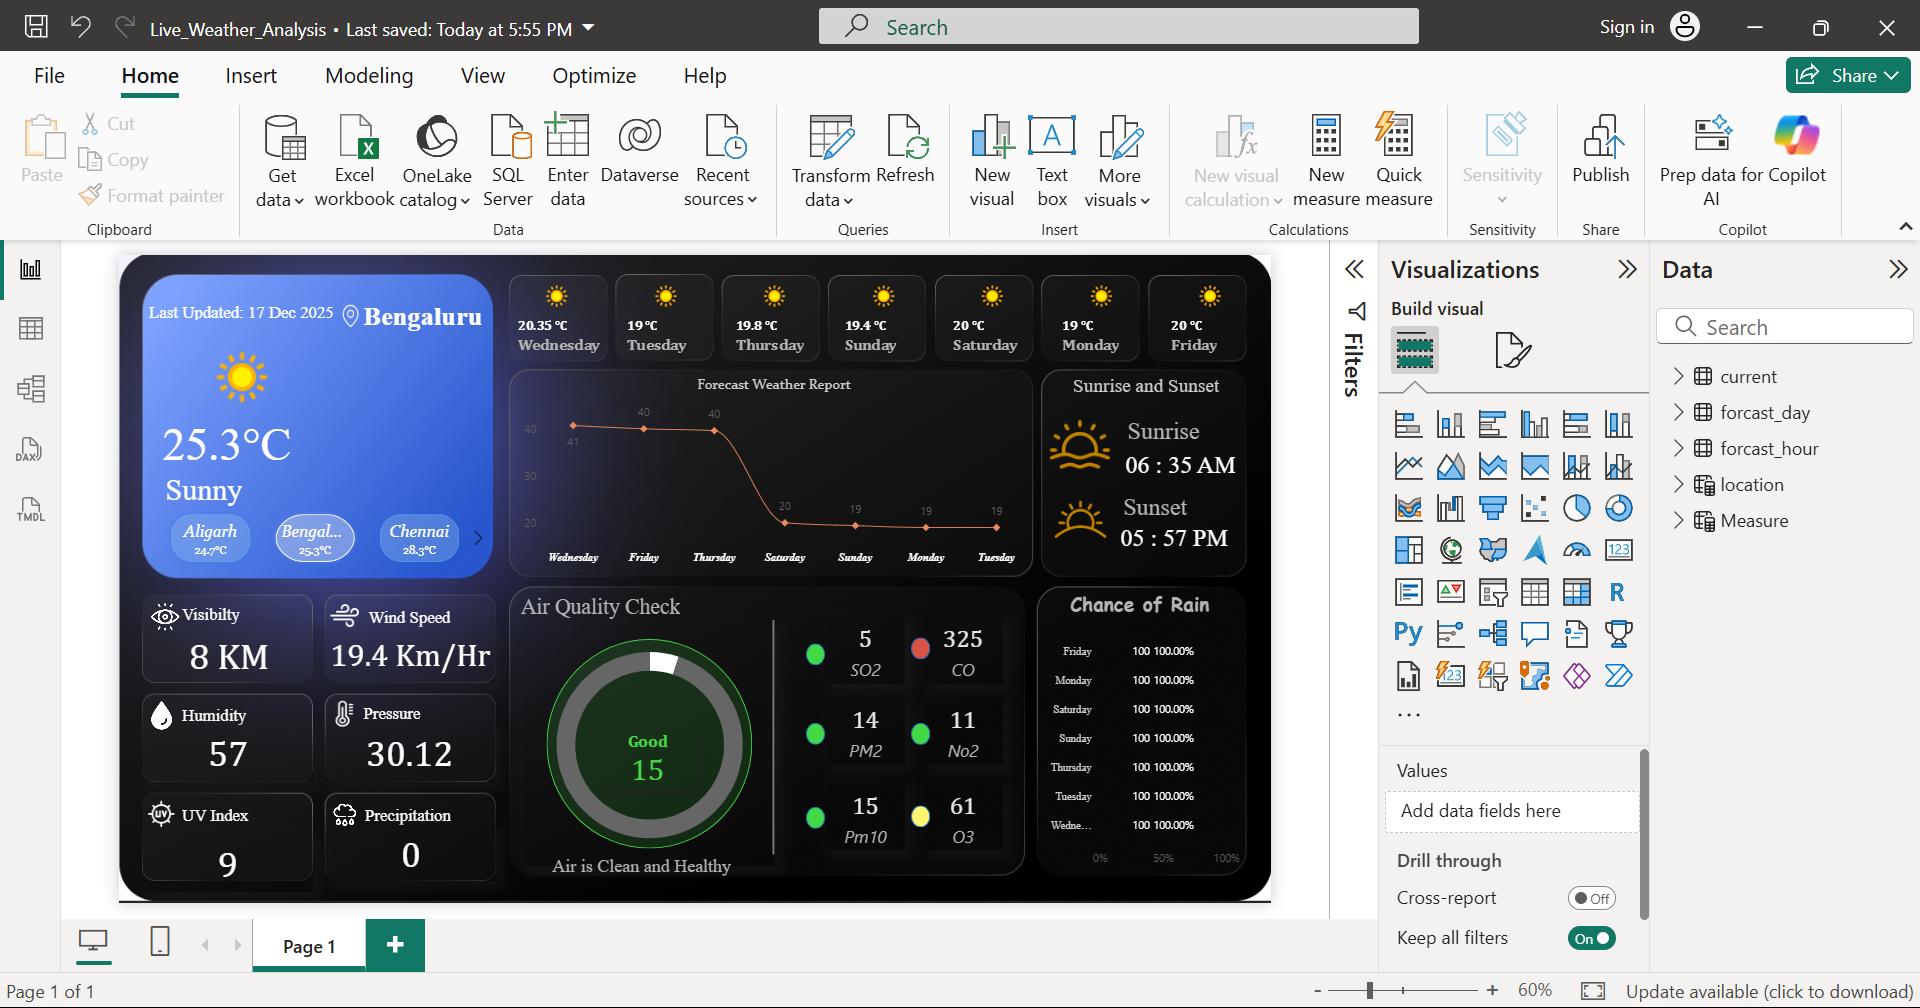

This screenshot's page, from the dashboard's own definition file:
{"tool":"powerbi","page":{"name":"Page 1","canvas":[1280,720],"ordinal":0},"visuals":[{"type":"shape","box":[475.7,427.1,228.6,232.9],"z":0},{"type":"advancedSlicerVisual","fields":{"Values":["location.location.name"]},"box":[21.7,271.7,393.3,85],"z":1000},{"type":"shape","box":[48.6,172.9,255.7,74.3],"z":2000},{"type":"shape","box":[51.4,241.4,178.6,37.1],"z":3000},{"type":"shape","box":[26.7,48.7,218.7,28.7],"z":4000},{"type":"shape","box":[258.8,40,158.8,56.2],"z":5000},{"type":"image","box":[241.2,50,31.2,35],"z":6000},{"type":"cardVisual","fields":{"Data":["Min(current.current.condition.icon)"]},"box":[26.4,67.9,177.9,127.1],"z":7000},{"type":"shape","box":[70,380.6,145,40.6],"z":8000},{"type":"image","box":[228.3,377.5,44.2,44.2],"z":9000},{"type":"shape","box":[272.5,380.8,145,40.8],"z":10000},{"type":"shape","box":[70,490,145,43.1],"z":11000},{"type":"shape","box":[70,601.4,145,40.7],"z":12000},{"type":"shape","box":[271.9,490,145,38.8],"z":13000},{"type":"shape","box":[272.9,601.4,145,40.7],"z":14000},{"type":"image","box":[30.6,381.2,42.5,40],"z":15000},{"type":"image","box":[22.9,600.7,47.1,41.4],"z":16000},{"type":"image","box":[25.6,490,44.4,43.1],"z":17000},{"type":"image","box":[228.1,490,43.8,38.8],"z":18000},{"type":"card","fields":{"Values":["Sum(current.current.humidity)"]},"box":[26.5,518.2,188.8,66.5],"z":19000},{"type":"card","fields":{"Values":["Sum(current.current.pressure_in)"]},"box":[228.3,518.3,188.3,66.7],"z":20000},{"type":"card","fields":{"Values":["_Measures.visibility"]},"box":[30.6,410.6,184.4,66.2],"z":21000},{"type":"card","fields":{"Values":["Sum(current.current.precip_in)"]},"box":[230,630.6,188.1,66.2],"z":22000},{"type":"card","fields":{"Values":["Sum(current.current.uv)"]},"box":[26.7,641.7,188.3,66.7],"z":23000},{"type":"card","fields":{"Values":["_Measures.Wind_speed"]},"box":[228.1,410.6,190,66.2],"z":24000},{"type":"image","box":[230,601.2,41.9,40.6],"z":25000},{"type":"advancedSlicerVisual","fields":{"Values":["forcast_day.Day"]},"box":[425.4,18.5,854.6,100],"z":26000},{"type":"lineChart","title":"Forecast Weather Report","fields":{"Y":["Sum(forcast_day.forecast.forecastday.day.avgtemp_c)"],"Category":["forcast_day.Day"]},"box":[445,133,566,218],"z":27000},{"type":"shape","box":[1026.4,124.3,229.3,40],"z":28000},{"type":"shape","box":[1118,208,152,48],"z":29000},{"type":"shape","box":[1084,290,178,48],"z":30000},{"type":"shape","box":[1072,176,178,36],"z":31000},{"type":"shape","box":[1064,256,176,46],"z":32000},{"type":"image","box":[1028.3,171.7,78.3,76.7],"z":33000},{"type":"image","box":[1023.3,250,90,86.7],"z":34000},{"type":"hundredPercentStackedBarChart","title":"Chance of Rain","fields":{"Y":["Sum(forcast_day.forecast.forecastday.day.daily_chance_of_rain)","Measure.left_value_range"],"Category":["forcast_day.Day_name"]},"box":[1018.3,370.8,231.7,316.7],"z":35000},{"type":"shape","box":[430,371.7,210,38.3],"z":36000},{"type":"card","fields":{"Values":["Sum(current.current.air_quality.co)"]},"box":[893.3,400,88.3,76.7],"z":37000},{"type":"card","fields":{"Values":["Sum(current.current.air_quality.no2)"]},"box":[893.3,490,88.3,76.7],"z":38000},{"type":"card","fields":{"Values":["Sum(current.current.air_quality.o3)"]},"box":[893.3,585,88.3,76.7],"z":39000},{"type":"card","fields":{"Values":["Sum(current.current.air_quality.so2)"]},"box":[785.3,400,88.2,76.5],"z":40000},{"type":"card","fields":{"Values":["Sum(current.current.air_quality.pm2_5)"]},"box":[785.3,490,88.2,76.5],"z":41000},{"type":"card","fields":{"Values":["Sum(current.current.air_quality.pm10)"]},"box":[785.3,585.3,88.2,76.5],"z":42000},{"type":"shape","box":[880,520,21.4,24.3],"z":43000},{"type":"shape","box":[764.1,431.2,21.2,24.1],"z":44000},{"type":"shape","box":[764.1,520.6,21.2,24.1],"z":45000},{"type":"shape","box":[764.1,613.5,21.2,24.1],"z":46000},{"type":"shape","box":[880,611.4,21.4,24.3],"z":47000},{"type":"shape","box":[880,425.7,21.4,24.3],"z":48000},{"type":"shape","box":[690,404.3,74.3,261.4],"z":49000},{"type":"card","fields":{"Values":["Sum(current.current.air_quality.pm10)"]},"box":[535.7,528.6,104.3,62.9],"z":50000},{"type":"donutChart","fields":{"Y":["Sum(current.current.air_quality.pm10)","Measure.left_value_Pm10"]},"box":[450.7,410.7,278.6,268.6],"z":51000},{"type":"shape","box":[435.7,655,291.4,38.6],"z":51001}]}

Visuals, with their boxes on the page's 1280x720 design canvas (x1, y1, x2, y2). These are canvas units, not pixel positions in the 1920x1008 screenshot, which may show the page scaled, cropped or inside an application window:
shape: <bbox>476, 427, 704, 660</bbox>
advancedSlicerVisual - location.location.name: <bbox>22, 272, 415, 357</bbox>
shape: <bbox>49, 173, 304, 247</bbox>
shape: <bbox>51, 241, 230, 278</bbox>
shape: <bbox>27, 49, 245, 77</bbox>
shape: <bbox>259, 40, 418, 96</bbox>
image: <bbox>241, 50, 272, 85</bbox>
cardVisual - Min(current.current.condition.icon): <bbox>26, 68, 204, 195</bbox>
shape: <bbox>70, 381, 215, 421</bbox>
image: <bbox>228, 378, 272, 422</bbox>
shape: <bbox>272, 381, 418, 422</bbox>
shape: <bbox>70, 490, 215, 533</bbox>
shape: <bbox>70, 601, 215, 642</bbox>
shape: <bbox>272, 490, 417, 529</bbox>
shape: <bbox>273, 601, 418, 642</bbox>
image: <bbox>31, 381, 73, 421</bbox>
image: <bbox>23, 601, 70, 642</bbox>
image: <bbox>26, 490, 70, 533</bbox>
image: <bbox>228, 490, 272, 529</bbox>
card - Sum(current.current.humidity): <bbox>26, 518, 215, 585</bbox>
card - Sum(current.current.pressure_in): <bbox>228, 518, 417, 585</bbox>
card - _Measures.visibility: <bbox>31, 411, 215, 477</bbox>
card - Sum(current.current.precip_in): <bbox>230, 631, 418, 697</bbox>
card - Sum(current.current.uv): <bbox>27, 642, 215, 708</bbox>
card - _Measures.Wind_speed: <bbox>228, 411, 418, 477</bbox>
image: <bbox>230, 601, 272, 642</bbox>
advancedSlicerVisual - forcast_day.Day: <bbox>425, 18, 1280, 118</bbox>
"Forecast Weather Report" lineChart: <bbox>445, 133, 1011, 351</bbox>
shape: <bbox>1026, 124, 1256, 164</bbox>
shape: <bbox>1118, 208, 1270, 256</bbox>
shape: <bbox>1084, 290, 1262, 338</bbox>
shape: <bbox>1072, 176, 1250, 212</bbox>
shape: <bbox>1064, 256, 1240, 302</bbox>
image: <bbox>1028, 172, 1107, 248</bbox>
image: <bbox>1023, 250, 1113, 337</bbox>
"Chance of Rain" hundredPercentStackedBarChart: <bbox>1018, 371, 1250, 688</bbox>
shape: <bbox>430, 372, 640, 410</bbox>
card - Sum(current.current.air_quality.co): <bbox>893, 400, 982, 477</bbox>
card - Sum(current.current.air_quality.no2): <bbox>893, 490, 982, 567</bbox>
card - Sum(current.current.air_quality.o3): <bbox>893, 585, 982, 662</bbox>
card - Sum(current.current.air_quality.so2): <bbox>785, 400, 874, 476</bbox>
card - Sum(current.current.air_quality.pm2_5): <bbox>785, 490, 874, 566</bbox>
card - Sum(current.current.air_quality.pm10): <bbox>785, 585, 874, 662</bbox>
shape: <bbox>880, 520, 901, 544</bbox>
shape: <bbox>764, 431, 785, 455</bbox>
shape: <bbox>764, 521, 785, 545</bbox>
shape: <bbox>764, 614, 785, 638</bbox>
shape: <bbox>880, 611, 901, 636</bbox>
shape: <bbox>880, 426, 901, 450</bbox>
shape: <bbox>690, 404, 764, 666</bbox>
card - Sum(current.current.air_quality.pm10): <bbox>536, 529, 640, 592</bbox>
donutChart - Sum(current.current.air_quality.pm10) x Measure.left_value_Pm10: <bbox>451, 411, 729, 679</bbox>
shape: <bbox>436, 655, 727, 694</bbox>
